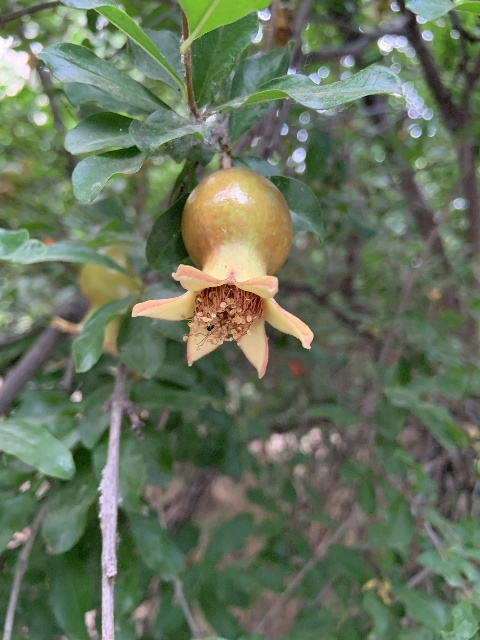early-fruit: (130, 167, 313, 378)
mid-growth: (50, 245, 141, 354)
